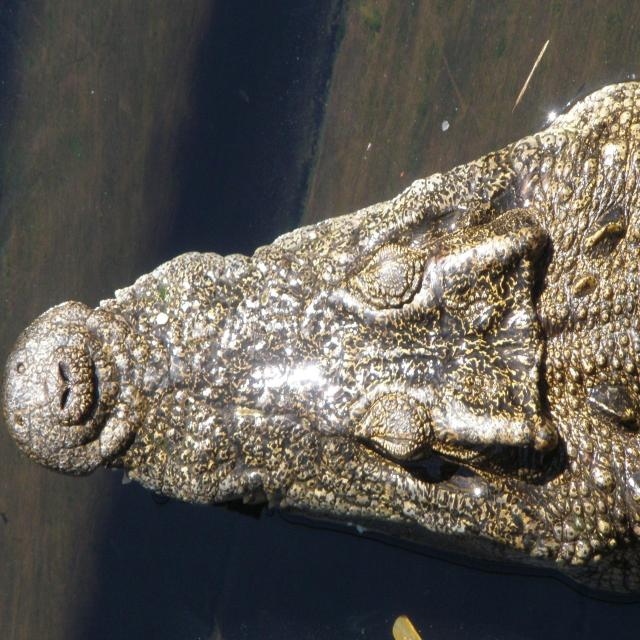crocodile: (1, 70, 640, 595)
